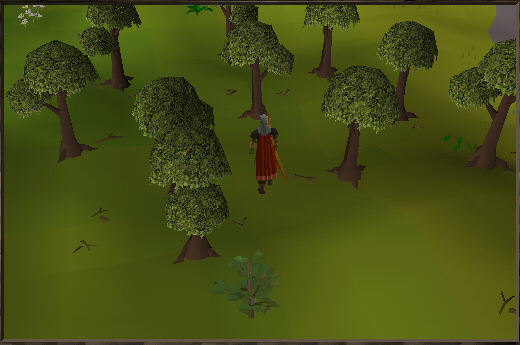Tree: (7, 42, 104, 166), (157, 137, 233, 267), (452, 41, 519, 170), (328, 68, 389, 192), (222, 23, 293, 111), (380, 18, 436, 125), (76, 0, 139, 93), (306, 0, 354, 76), (381, 13, 389, 18)
